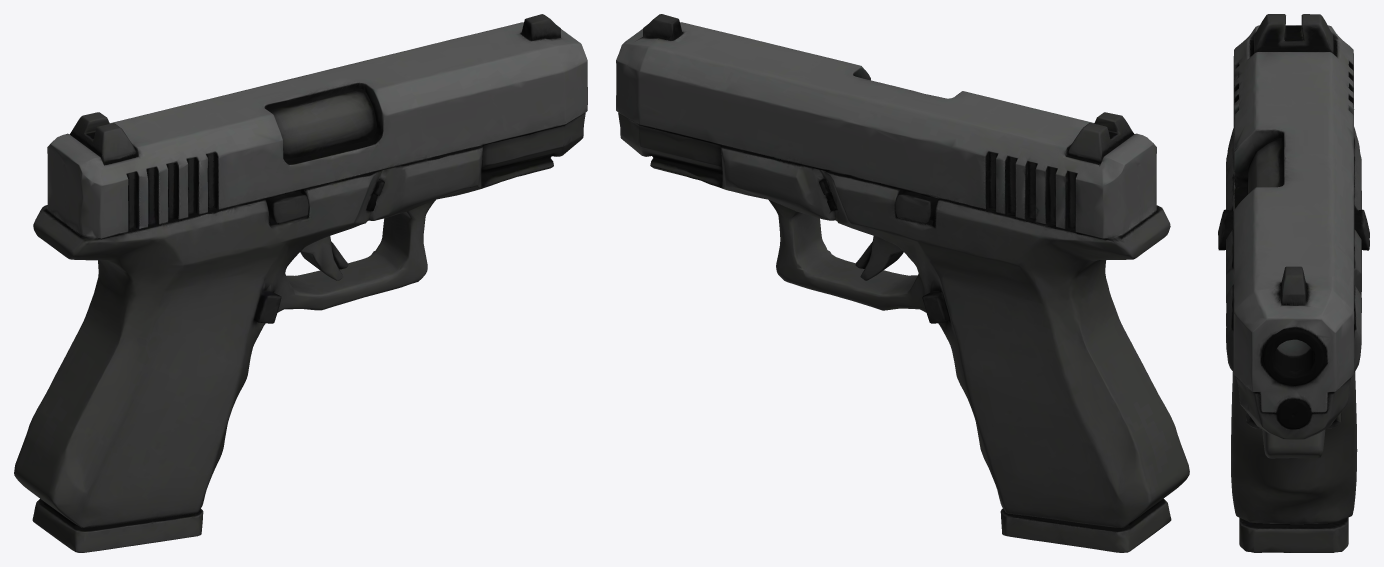
Rendered from p9-service.glb.
The picture shows the model from 3 angles, left to right: view 1: azimuth 30°, elevation 25°; view 2: azimuth 150°, elevation 25°; view 3: azimuth 270°, elevation 25°; orthographic projection. The views are drawn at different scales.
Visible parts, largest first — view 1: Object_5; view 2: Object_5; view 3: Object_5.
Boxes of the visible parts, left/top/right/bottom form: Object_5: left=14, top=14, right=587, bottom=552; Object_5: left=616, top=14, right=1189, bottom=552; Object_5: left=1218, top=14, right=1369, bottom=552.
Size of the model in its own units: 0.19 by 0.1399 by 0.0394.
1 material, 1 textured.
